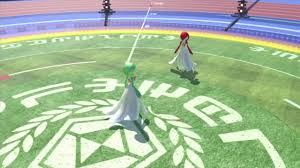gardevoir: (106, 60, 152, 126)
